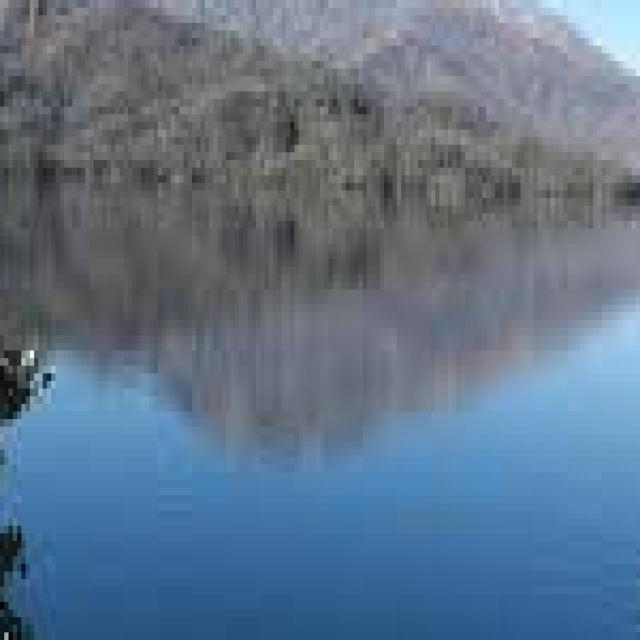-: (77, 290, 640, 594), (90, 274, 516, 640)
